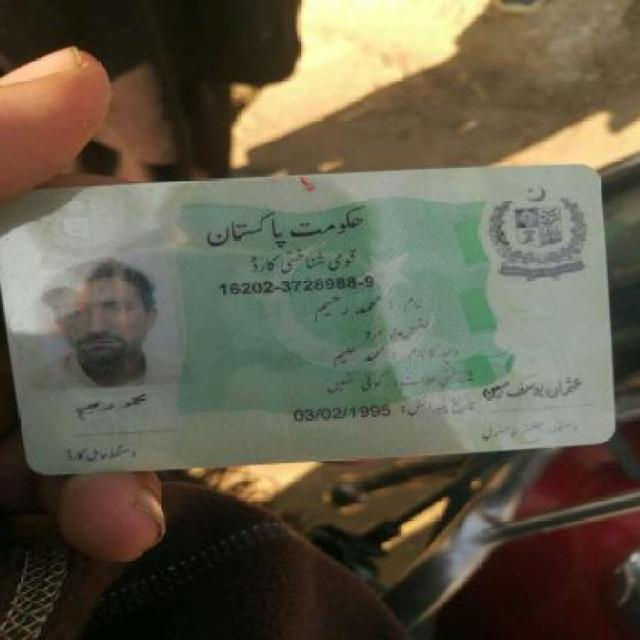Front: (9, 164, 631, 470)
